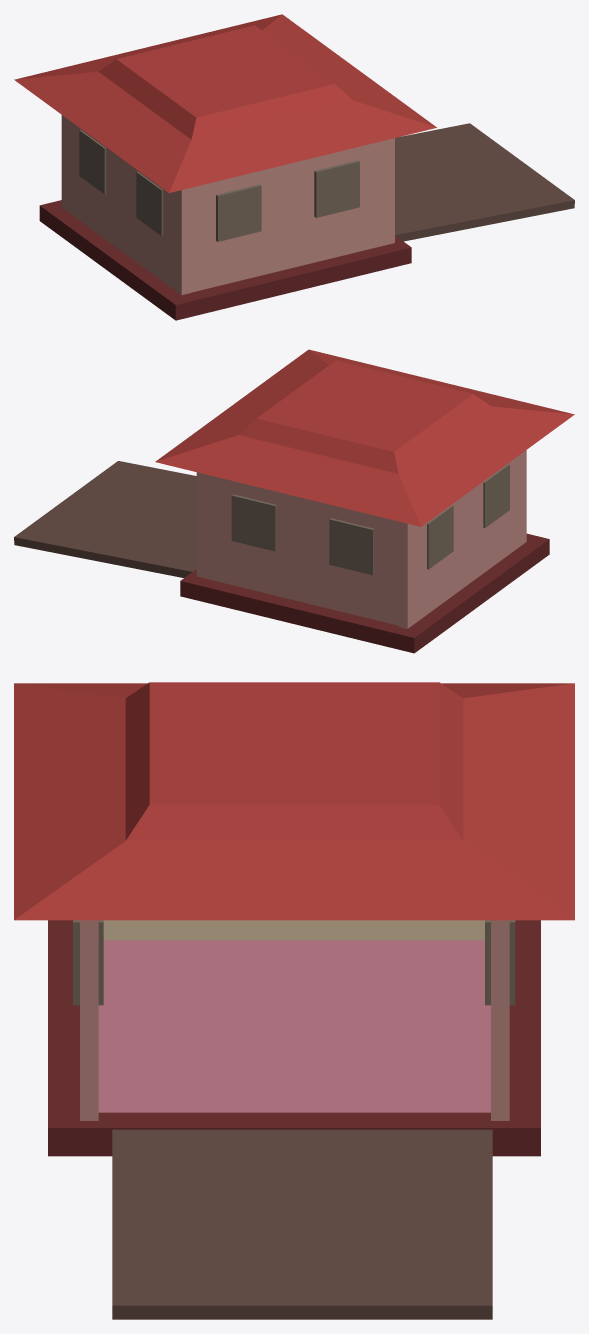
Rendered from Dojo.fbx.
3 views of the same model, one above another, from view 1: azimuth 30°, elevation 25°; view 2: azimuth 150°, elevation 25°; view 3: azimuth 270°, elevation 25° (orthographic). The views are drawn at different scales.
Visible parts, largest first — view 1: Cube.004, Cube, Cube.005, Cube.003, Cube.007; view 2: Cube.004, Cube, Cube.005, Cube.003, Cube.007; view 3: Cube.004, Cube.003, Cube.005, Cube, Cube.007.
Part boxes in pixels (x1=…): Cube.004: x1=14, y1=14, x2=436, y2=192; Cube: x1=61, y1=115, x2=394, y2=294; Cube.005: x1=395, y1=123, x2=574, y2=241; Cube.003: x1=39, y1=200, x2=411, y2=320; Cube.007: x1=79, y1=130, x2=359, y2=241; Cube.004: x1=155, y1=349, x2=574, y2=526; Cube: x1=196, y1=450, x2=526, y2=628; Cube.005: x1=14, y1=461, x2=196, y2=577; Cube.003: x1=180, y1=533, x2=549, y2=653; Cube.007: x1=231, y1=464, x2=509, y2=575; Cube.004: x1=14, y1=682, x2=574, y2=920; Cube.003: x1=48, y1=920, x2=540, y2=1156; Cube.005: x1=112, y1=1129, x2=492, y2=1319; Cube: x1=80, y1=920, x2=509, y2=1120; Cube.007: x1=73, y1=920, x2=515, y2=1005.
Size of the model in its own units: 1981 by 755 by 1227.
